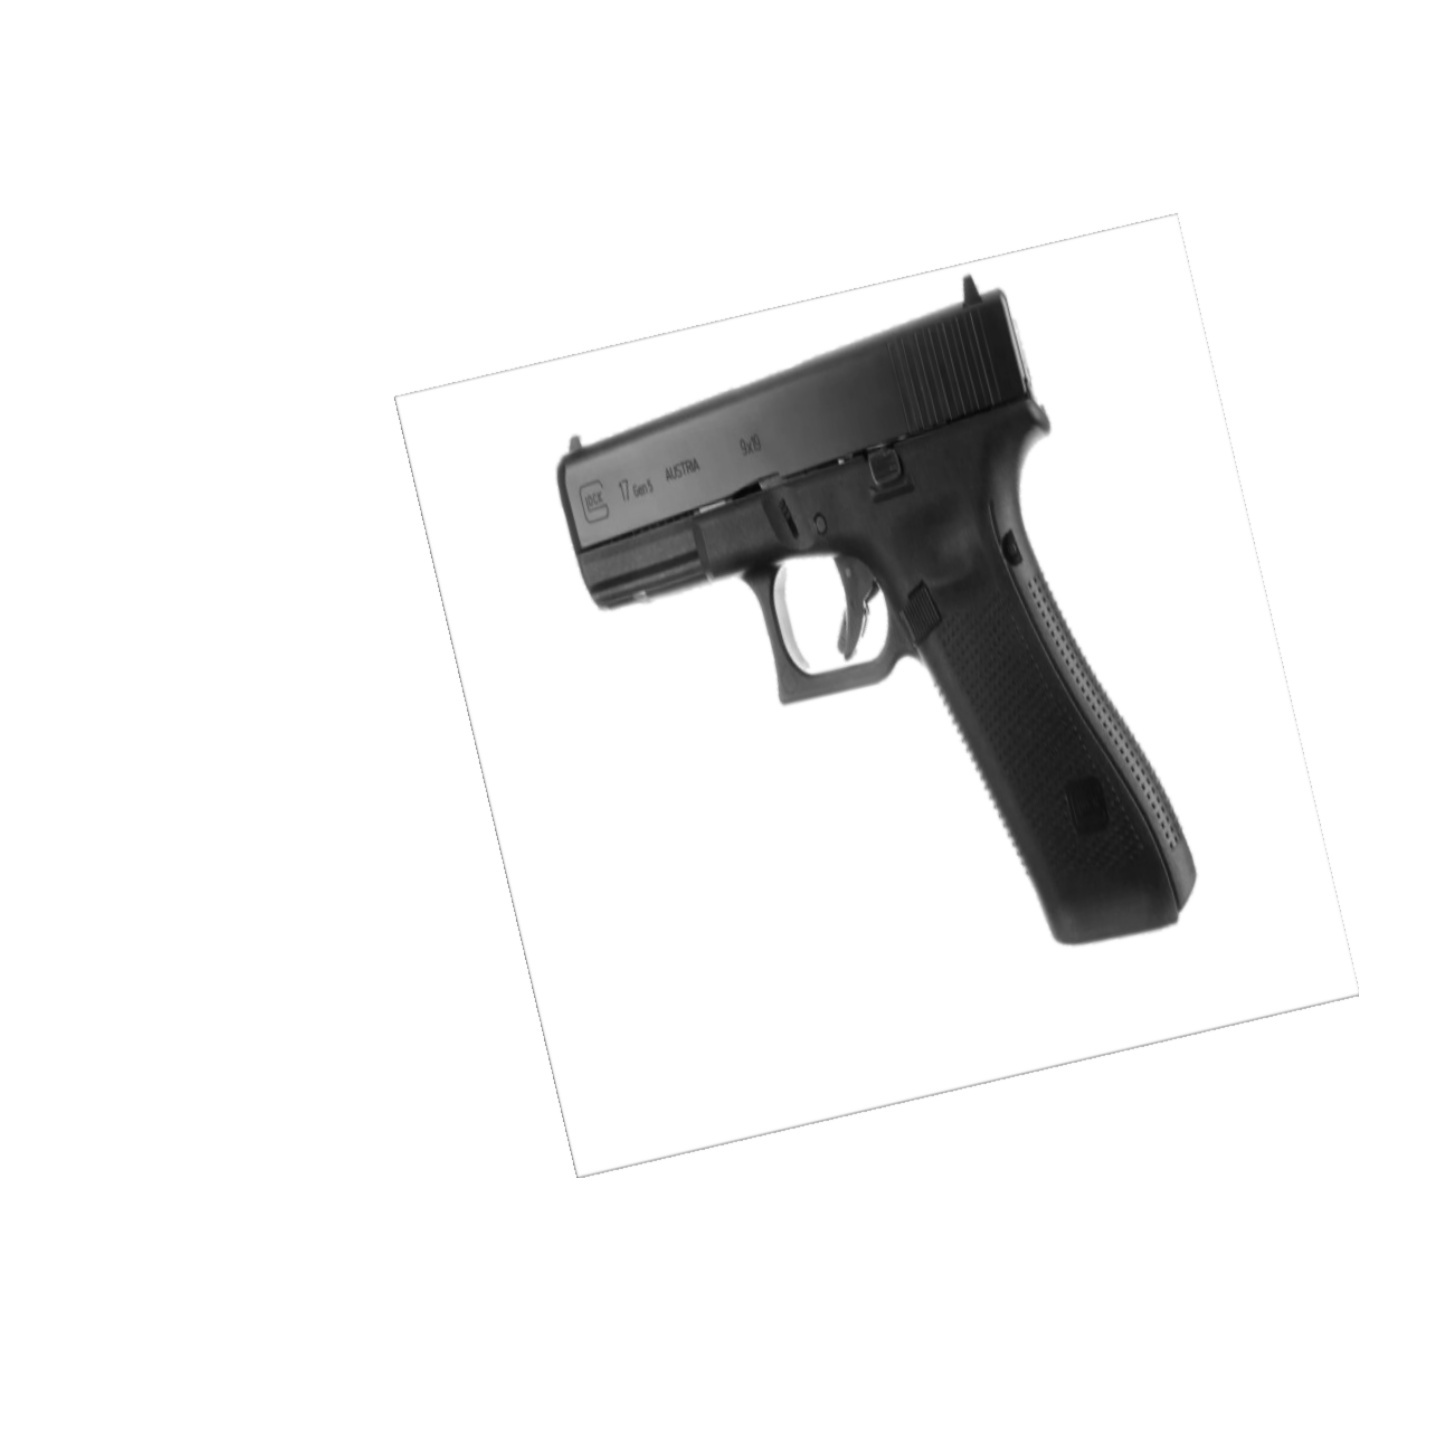gun: (554, 277, 1196, 944)
